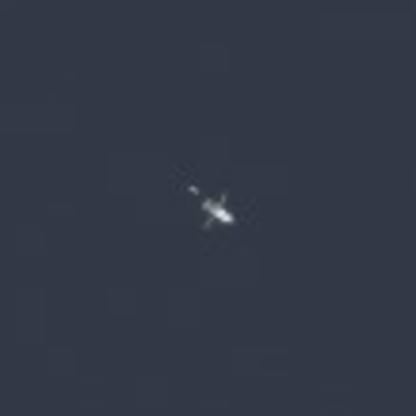ship: (194, 193, 239, 227)
